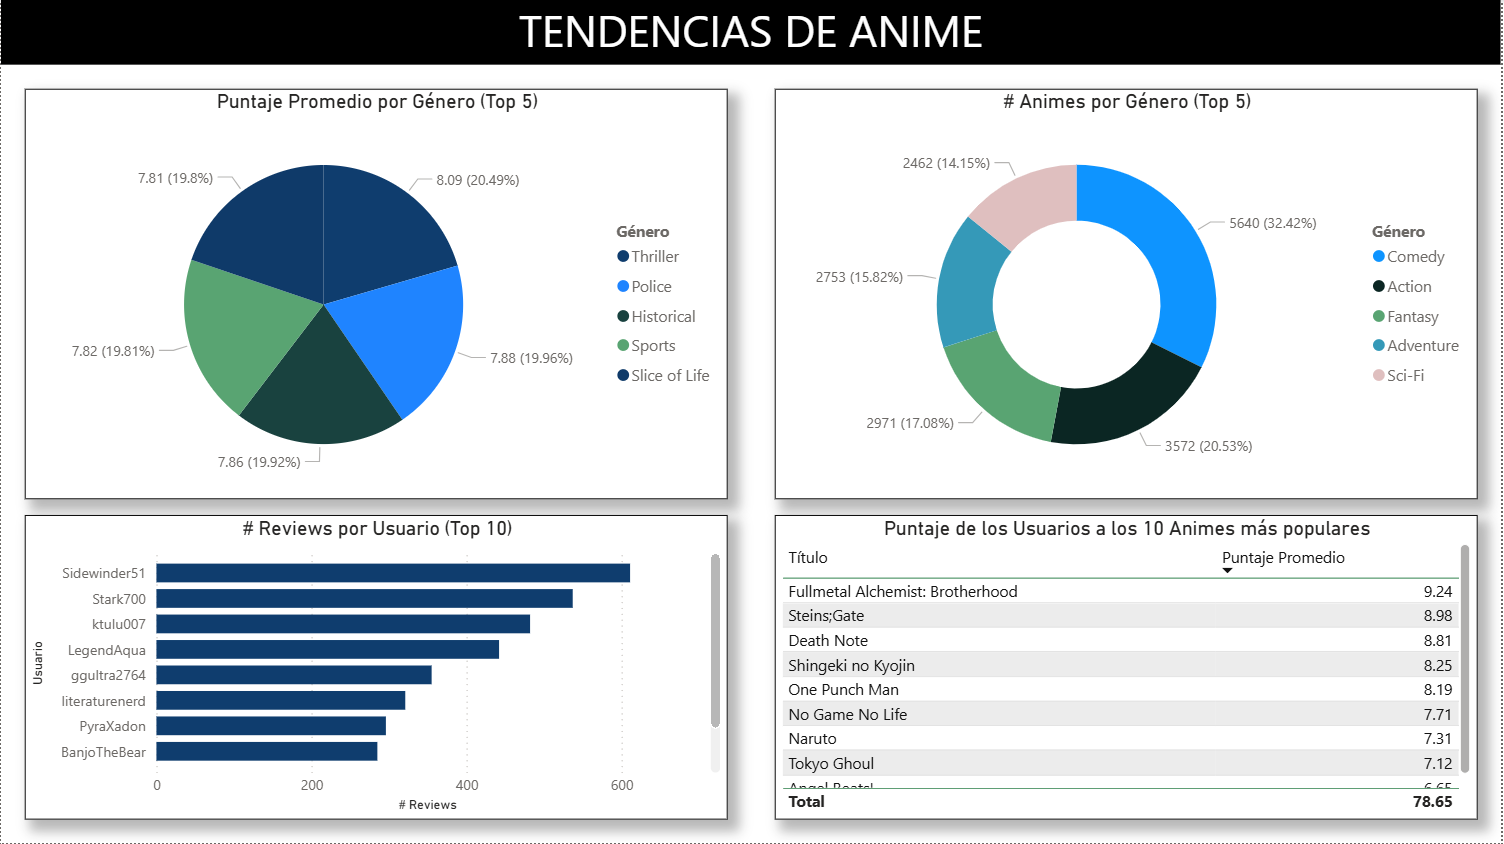

Layout of this report page (visuals, bound fields, positions):
{"tool":"powerbi","page":{"name":"Page 1","canvas":[1280,720],"ordinal":0},"visuals":[{"type":"pieChart","title":"Puntaje Promedio por Género (Top 5)","fields":{"Category":["`catalog_anime` `golden` `genre_trends`.genre"],"Y":["`catalog_anime` `golden` `genre_trends`.avg_score"]},"box":[20,75.5,600,350],"z":0},{"type":"textbox","box":[0,0,1280.3,55],"z":1},{"type":"donutChart","title":"# Animes por Género (Top 5)","fields":{"Category":["`catalog_anime` `golden` `genre_trends`.genre"],"Y":["`catalog_anime` `golden` `genre_trends`.anime_count"]},"box":[660,75.5,600,350],"z":2},{"type":"clusteredBarChart","title":"# Reviews por Usuario (Top 10)","fields":{"Category":["`catalog_anime` `golden` `user_engagement`.profile"],"Y":["`catalog_anime` `golden` `user_engagement`.total_reviews"]},"box":[20.6,440,600,260],"z":3},{"type":"tableEx","title":"Puntaje de los Usuarios a los 10 Animes más populares","fields":{"Values":["`catalog_anime` `golden` `anime_kpis`.title","`catalog_anime` `golden` `anime_kpis`.avg_score"]},"box":[660,440,600,260],"z":4}]}

Visuals, with their boxes in screenshot pixels (x1, y1, x2, y2), scaled from the page's 1280x720 canvas onto the 1504x844 screenshot:
"Puntaje Promedio por Género (Top 5)" pieChart: [24,89,728,499]
textbox: [0,0,1503,64]
"# Animes por Género (Top 5)" donutChart: [776,89,1480,499]
"# Reviews por Usuario (Top 10)" clusteredBarChart: [24,516,729,821]
"Puntaje de los Usuarios a los 10 Animes más populares" tableEx: [776,516,1480,821]
